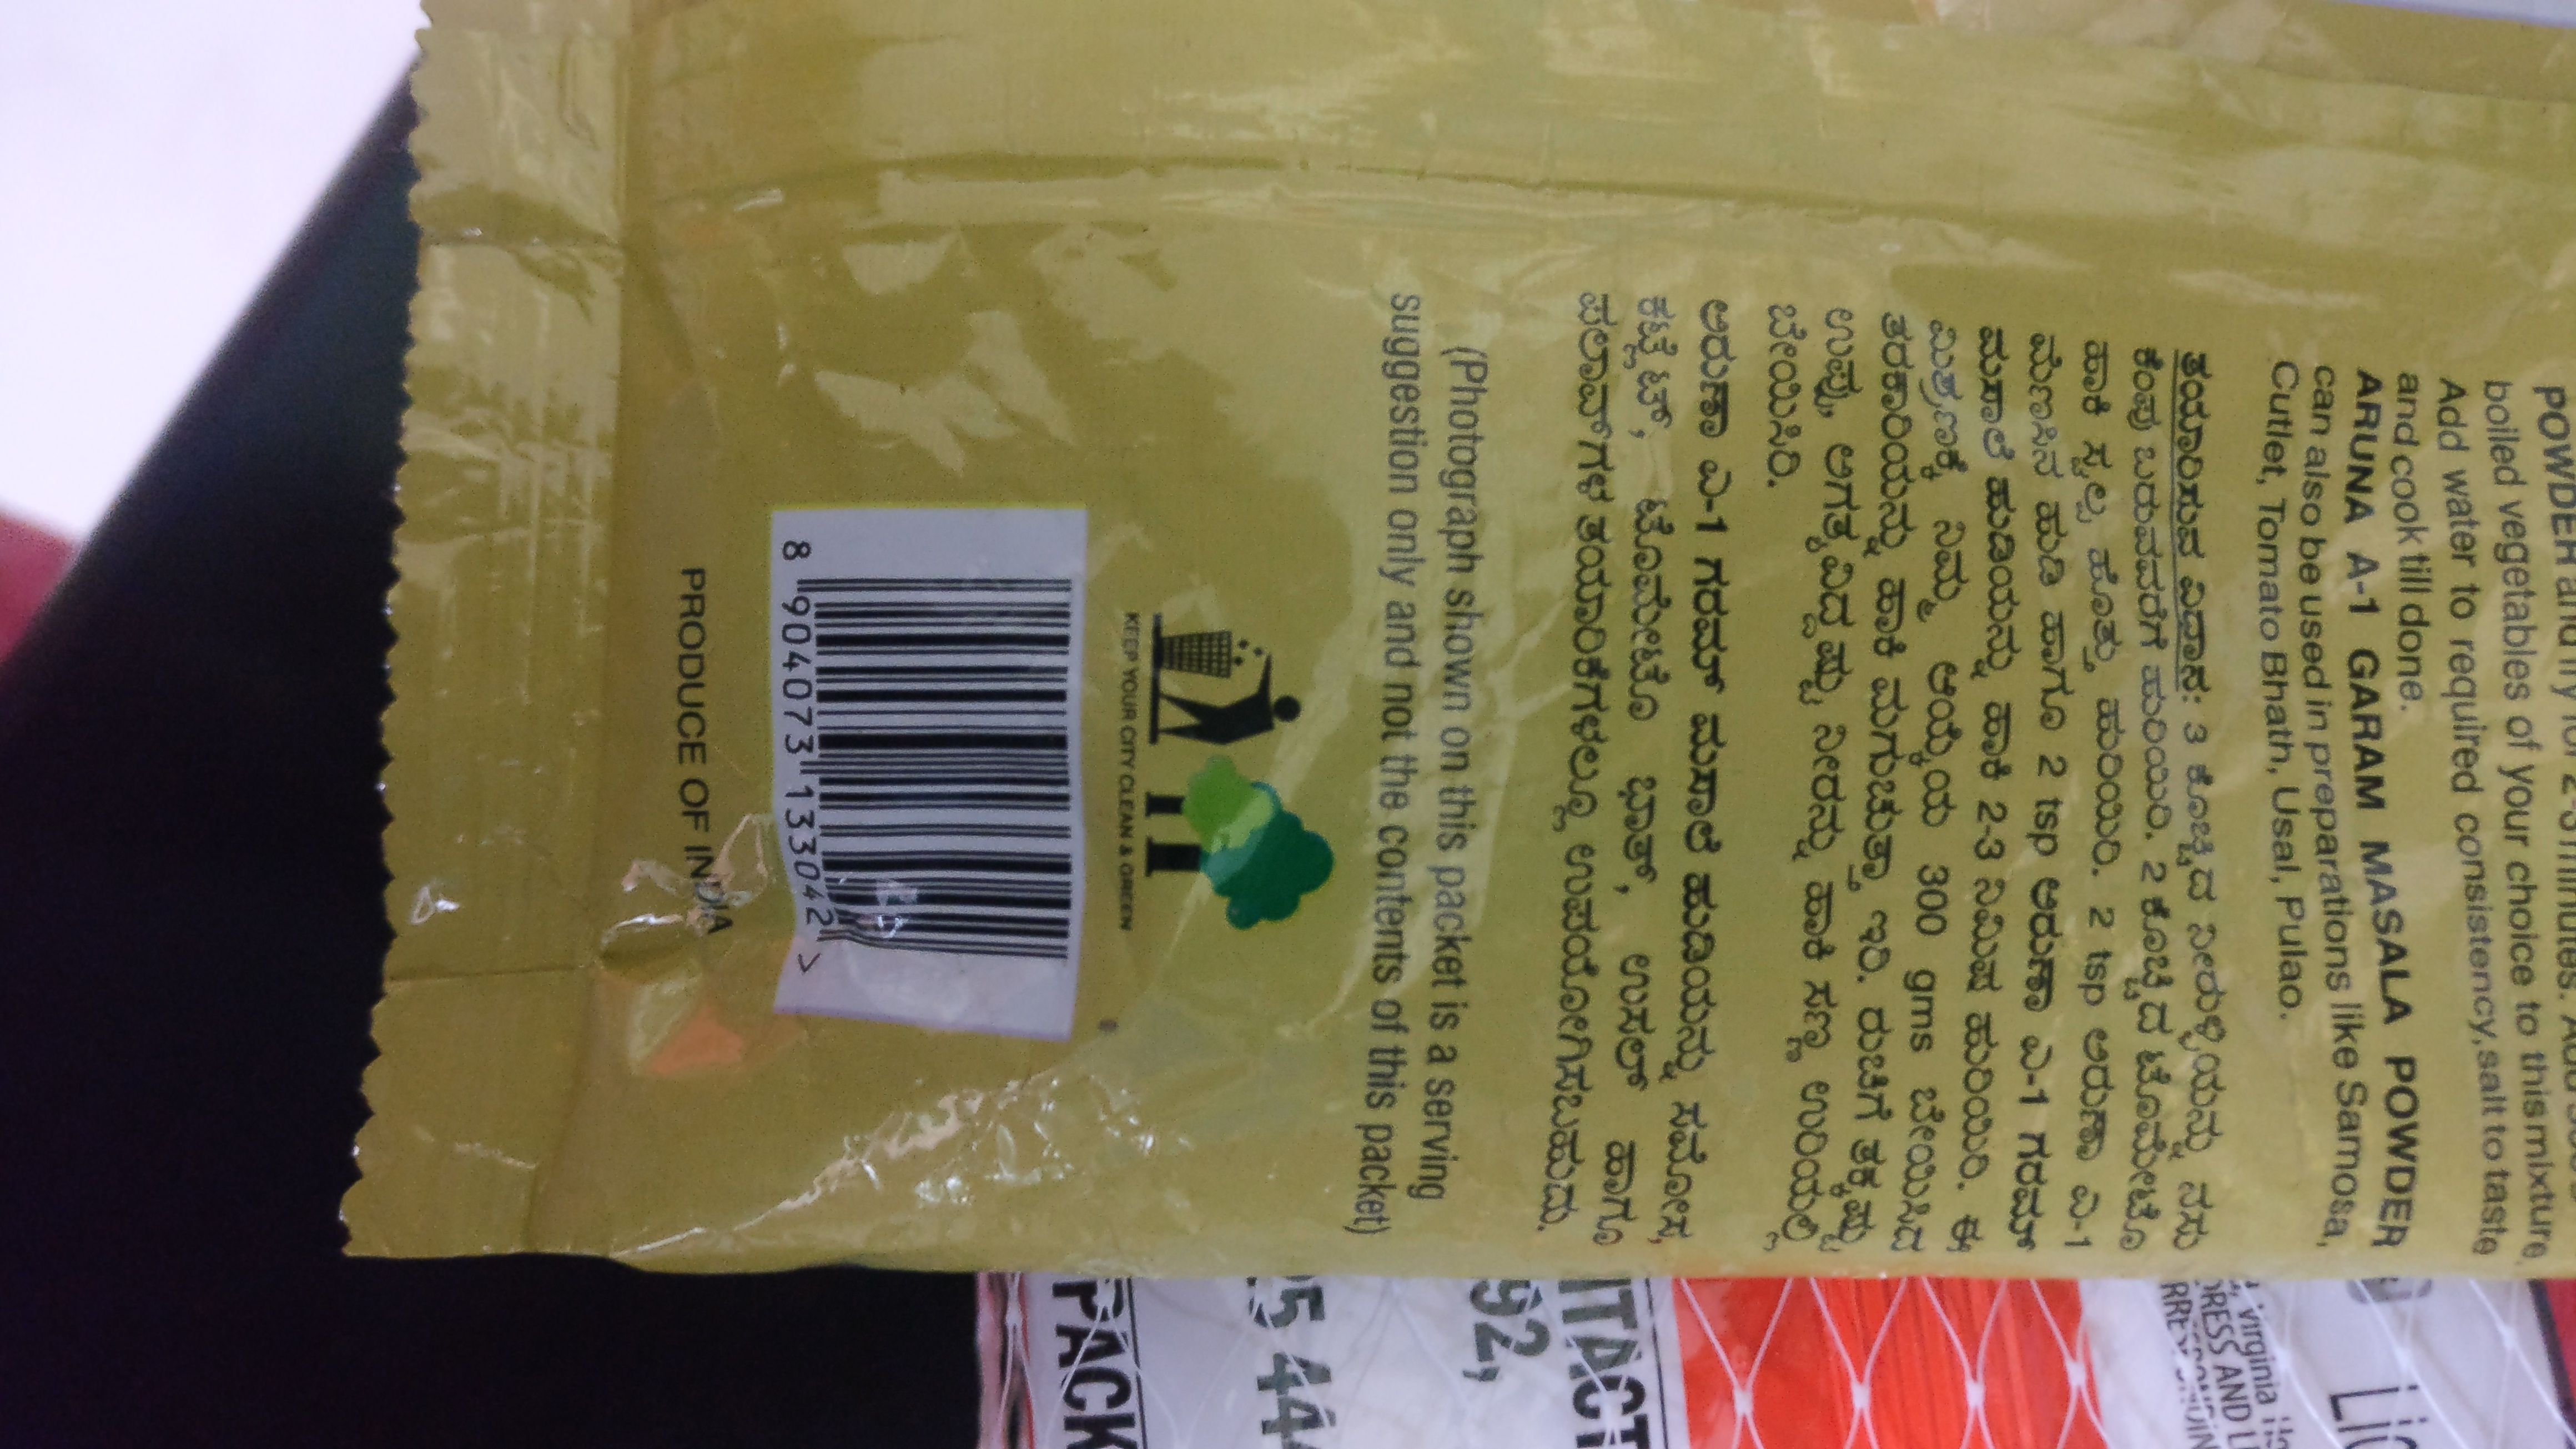barcode: (761, 520, 1076, 1014)
